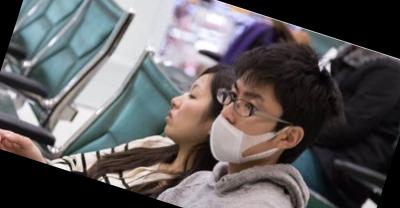with_mask: (200, 76, 288, 174)
without_mask: (159, 74, 218, 147)
